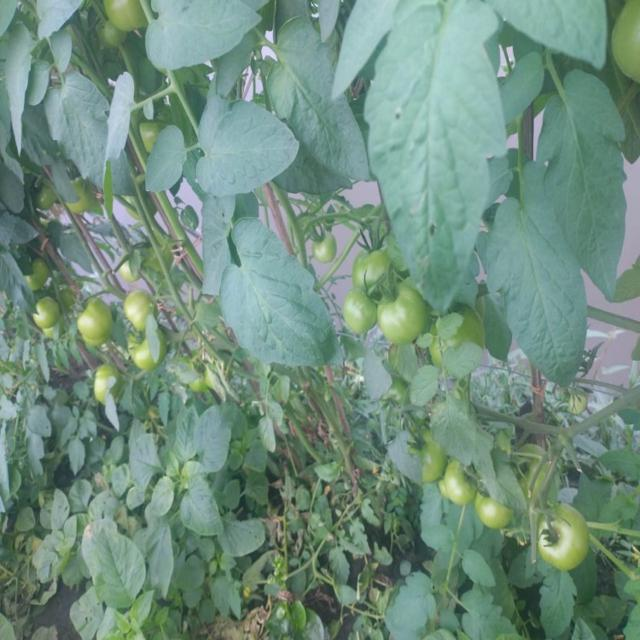tomato: (536, 512, 593, 572), (381, 283, 426, 344), (612, 1, 640, 84), (77, 295, 114, 348), (470, 499, 516, 539), (343, 293, 380, 338), (357, 248, 396, 289), (106, 1, 147, 39), (416, 444, 451, 483), (448, 467, 480, 509), (127, 289, 152, 326), (35, 299, 65, 329), (139, 118, 163, 150), (132, 333, 152, 369), (92, 364, 109, 402), (312, 235, 335, 263), (122, 260, 133, 279)
